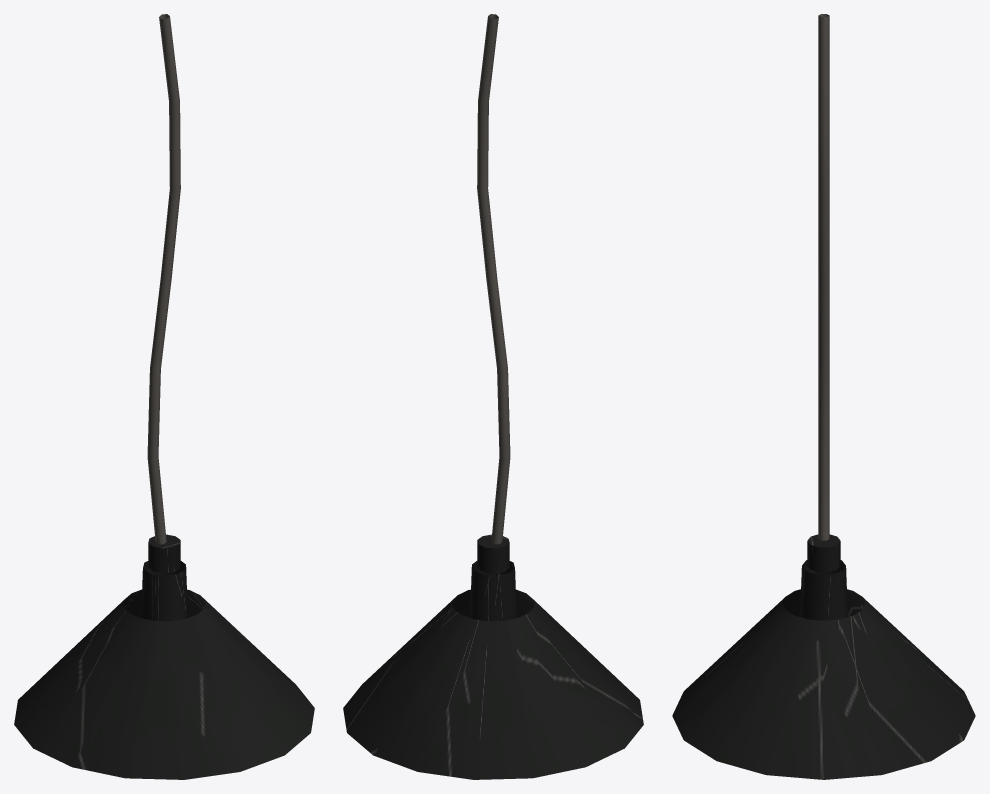
The model's file is S7U_Lamp.fbx.
3 views of the same model, side by side, from view 1: azimuth 30°, elevation 25°; view 2: azimuth 150°, elevation 25°; view 3: azimuth 270°, elevation 25° (orthographic).
Visible parts, largest first — view 1: S7U_Lamp; view 2: S7U_Lamp; view 3: S7U_Lamp.
Part boxes in pixels (x1,y1,x2,y2): S7U_Lamp: (14, 14, 314, 779); S7U_Lamp: (343, 14, 643, 779); S7U_Lamp: (672, 14, 975, 779).
Bounding box in the file's own units: 0.22 × 0.5877 × 0.22.
